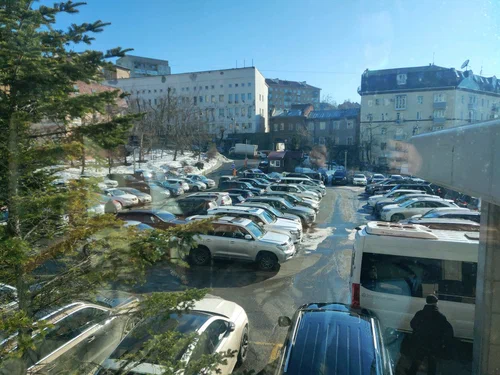Car: (349, 220, 480, 344), (94, 296, 250, 375), (0, 290, 140, 375), (273, 302, 393, 375), (179, 215, 296, 271), (206, 206, 302, 244), (77, 221, 176, 257), (245, 196, 316, 225), (380, 197, 459, 222), (0, 280, 50, 316), (374, 194, 440, 219), (115, 208, 186, 231), (233, 202, 302, 225), (261, 191, 320, 215), (398, 208, 481, 224), (367, 190, 427, 211), (158, 198, 217, 218), (408, 218, 480, 232), (266, 183, 315, 200), (280, 177, 326, 195), (219, 181, 265, 197), (185, 192, 232, 207), (103, 188, 138, 207), (376, 184, 435, 195), (116, 187, 152, 205), (149, 181, 185, 195), (107, 174, 144, 187), (292, 184, 319, 201), (285, 173, 324, 184), (365, 178, 393, 193), (237, 178, 269, 191), (229, 144, 258, 158), (221, 188, 254, 200), (101, 196, 123, 214), (161, 179, 190, 192), (187, 175, 215, 188), (181, 178, 206, 192), (147, 183, 170, 198), (302, 185, 322, 202), (218, 176, 239, 190), (245, 173, 277, 182), (129, 183, 150, 194), (332, 170, 347, 185), (467, 197, 481, 212), (456, 193, 471, 207), (445, 189, 460, 203), (421, 181, 436, 195), (229, 194, 245, 206), (243, 169, 264, 178), (103, 176, 118, 188), (434, 186, 447, 198), (353, 174, 367, 185), (324, 161, 343, 168), (371, 174, 385, 182), (258, 161, 268, 171), (253, 179, 271, 184), (410, 175, 422, 182), (389, 175, 404, 180), (217, 147, 224, 154), (258, 152, 266, 158)
